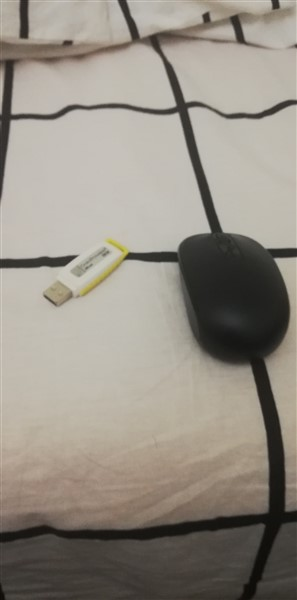flash disk: (40, 233, 138, 312)
mouse: (170, 228, 289, 369)
